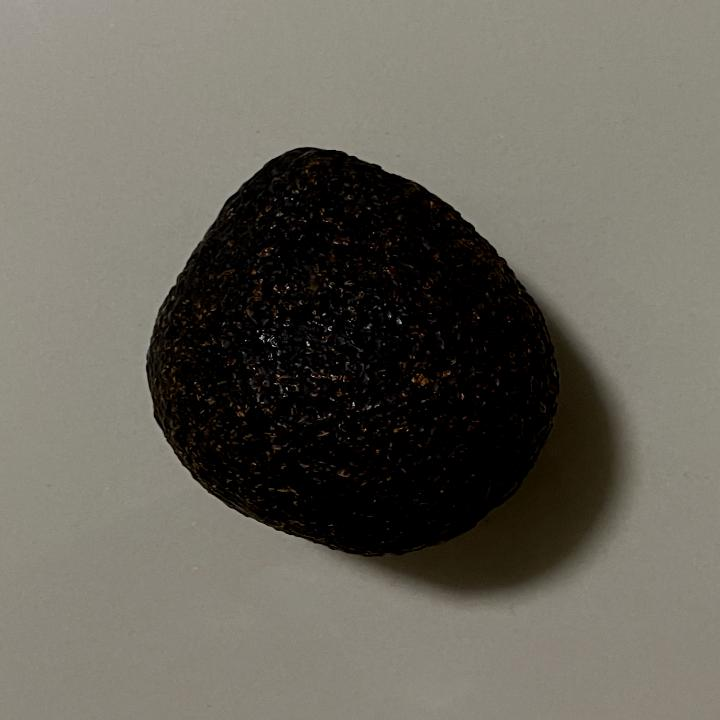Level2: (138, 139, 568, 563)
